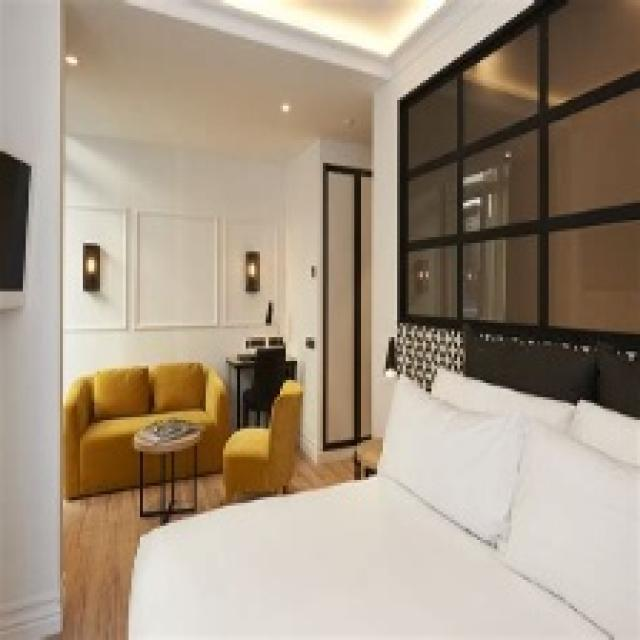Bed: (123, 320, 637, 637)
